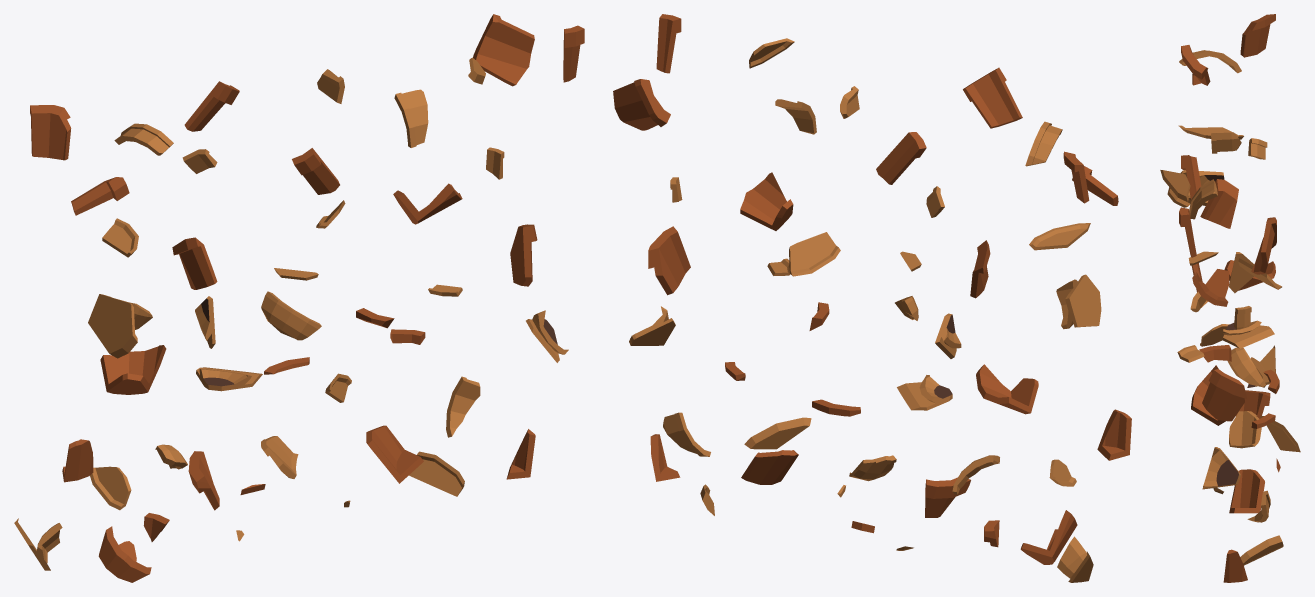
Rendered from ShatterDoor.fbx.
The picture shows the model from 3 angles, left to right: view 1: azimuth 30°, elevation 25°; view 2: azimuth 150°, elevation 25°; view 3: azimuth 270°, elevation 25°; orthographic projection. The views are drawn at different scales.
Visible parts, largest first — view 1: Pot_Medium_cell.033, Pot_Small_cell.038, Pot_Medium_cell.025, Pot_Medium_cell.029, Pot_Medium_cell.039, Pot_Medium_cell.034, Pot_Small_cell.033, Pot_Medium_cell.030, Pot_Small_cell.039, Pot_Small_cell.045, Pot_Medium_cell.038, Pot_Small_cell.044 (+15 smaller); view 2: Pot_Medium_cell.022, Pot_Medium_cell.033, Pot_Medium_cell.036, Pot_Small_cell.038, Pot_Medium_cell.038, Pot_Medium_cell.025, Pot_Small_cell.046, Pot_Medium_cell.039, Pot_Medium_cell.032, Pot_Medium_cell.021, Pot_Small_cell.028, Pot_Small_cell.042 (+14 smaller); view 3: Pot_Medium_cell.038, Pot_Medium_cell.039, Pot_Medium_cell.030, Pot_Small_cell.036, Pot_Small_cell.037, Pot_Medium_cell.029, Pot_Medium_cell.036, Pot_Small_cell.028, Pot_Small_cell.025, Pot_Medium_cell.033, Pot_Medium_cell.034, Pot_Medium_cell.031 (+26 smaller).
Part boxes in pixels (bbox=[...]): Pot_Medium_cell.033: bbox=[473, 14, 534, 86]; Pot_Small_cell.038: bbox=[88, 294, 152, 358]; Pot_Medium_cell.025: bbox=[100, 345, 166, 394]; Pot_Medium_cell.029: bbox=[30, 105, 71, 160]; Pot_Medium_cell.039: bbox=[366, 425, 423, 483]; Pot_Medium_cell.034: bbox=[98, 526, 151, 582]; Pot_Small_cell.033: bbox=[261, 291, 321, 340]; Pot_Medium_cell.030: bbox=[172, 237, 217, 289]; Pot_Small_cell.039: bbox=[409, 451, 464, 496]; Pot_Small_cell.045: bbox=[394, 89, 428, 147]; Pot_Medium_cell.038: bbox=[510, 224, 537, 286]; Pot_Small_cell.044: bbox=[90, 466, 131, 510]; Pot_Medium_cell.022: bbox=[963, 67, 1022, 128]; Pot_Medium_cell.033: bbox=[613, 79, 670, 130]; Pot_Medium_cell.036: bbox=[740, 172, 793, 230]; Pot_Small_cell.038: bbox=[1056, 274, 1101, 329]; Pot_Medium_cell.038: bbox=[648, 226, 690, 295]; Pot_Medium_cell.025: bbox=[976, 364, 1038, 414]; Pot_Small_cell.046: bbox=[789, 232, 840, 276]; Pot_Medium_cell.039: bbox=[741, 450, 798, 484]; Pot_Medium_cell.032: bbox=[876, 132, 926, 184]; Pot_Medium_cell.021: bbox=[1097, 409, 1131, 460]; Pot_Small_cell.028: bbox=[897, 375, 952, 410]; Pot_Small_cell.042: bbox=[744, 417, 811, 449]; Pot_Medium_cell.038: bbox=[1202, 369, 1246, 421]; Pot_Medium_cell.039: bbox=[1229, 469, 1264, 513]; Pot_Medium_cell.030: bbox=[1200, 179, 1238, 228]; Pot_Small_cell.036: bbox=[1202, 447, 1240, 489]; Pot_Small_cell.037: bbox=[1229, 411, 1261, 448]; Pot_Medium_cell.029: bbox=[1240, 14, 1275, 57]; Pot_Medium_cell.036: bbox=[1192, 269, 1229, 306]; Pot_Small_cell.028: bbox=[1223, 320, 1274, 348]; Pot_Small_cell.025: bbox=[1227, 347, 1266, 387]; Pot_Medium_cell.033: bbox=[1251, 217, 1276, 274]; Pot_Medium_cell.034: bbox=[1191, 365, 1225, 425]; Pot_Medium_cell.031: bbox=[1223, 549, 1247, 582].
Size of the model in its own units: 196 by 183 by 56.24.
